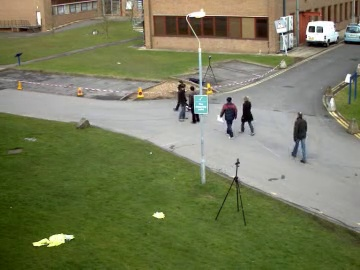person: (176, 80, 195, 120), (176, 82, 194, 122)
